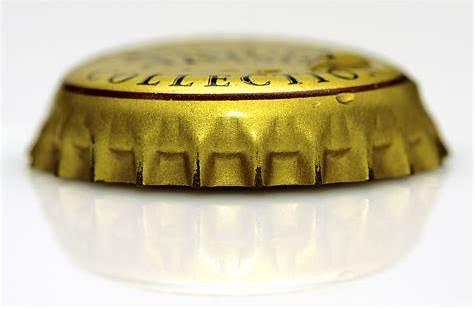metal: (30, 38, 448, 187)
